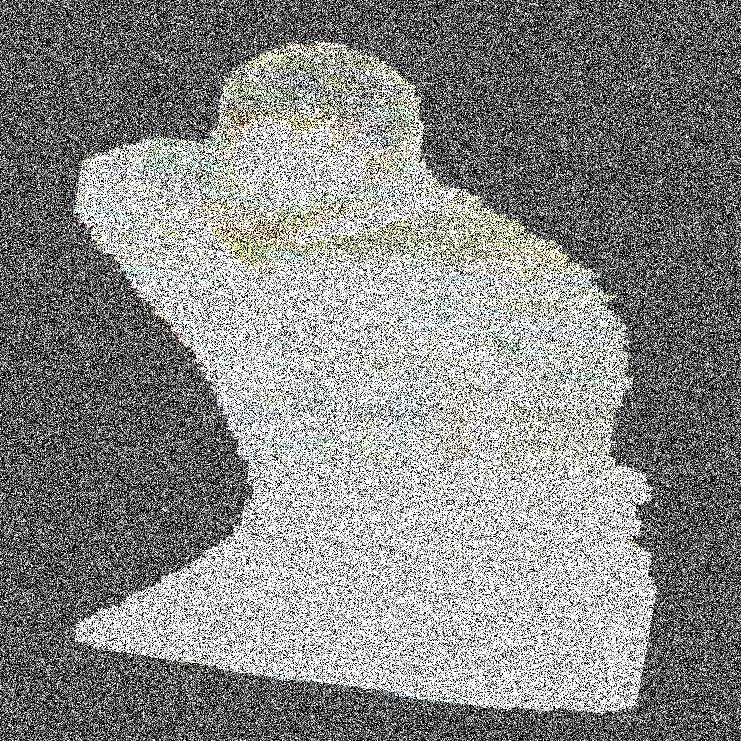Pessoa: (214, 0, 535, 740)
